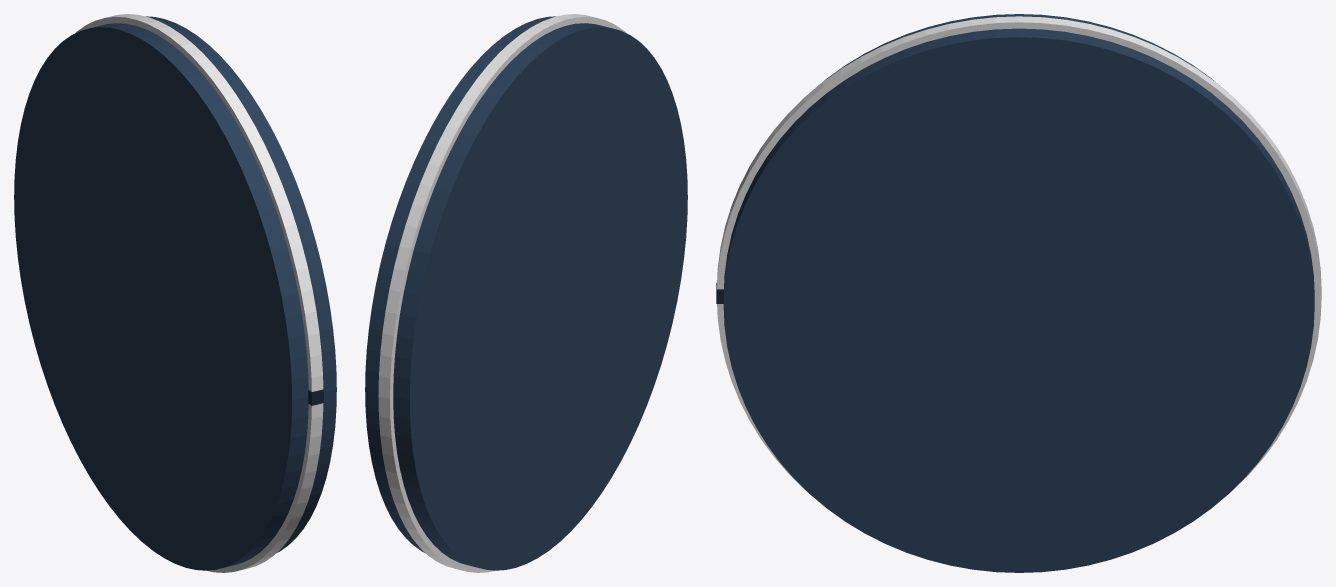
The model's file is thick_pitch_handle.glb.
3 views of the same model, side by side, from view 1: azimuth 30°, elevation 25°; view 2: azimuth 150°, elevation 25°; view 3: azimuth 270°, elevation 25° (orthographic). The views are drawn at different scales.
Visible parts, largest first — view 1: Base hole.008, Thick Pitch.001; view 2: Base hole.008, Thick Pitch.001; view 3: Base hole.008, Thick Pitch.001.
Part boxes in pixels (x1,y1,x2,y2): Base hole.008: (14,16,336,570); Thick Pitch.001: (76,14,323,572); Base hole.008: (365,16,687,570); Thick Pitch.001: (378,14,625,572); Base hole.008: (723,14,1314,572); Thick Pitch.001: (717,16,1321,491).
Size of the model in its own units: 0.066 by 0.7279 by 0.7284.
